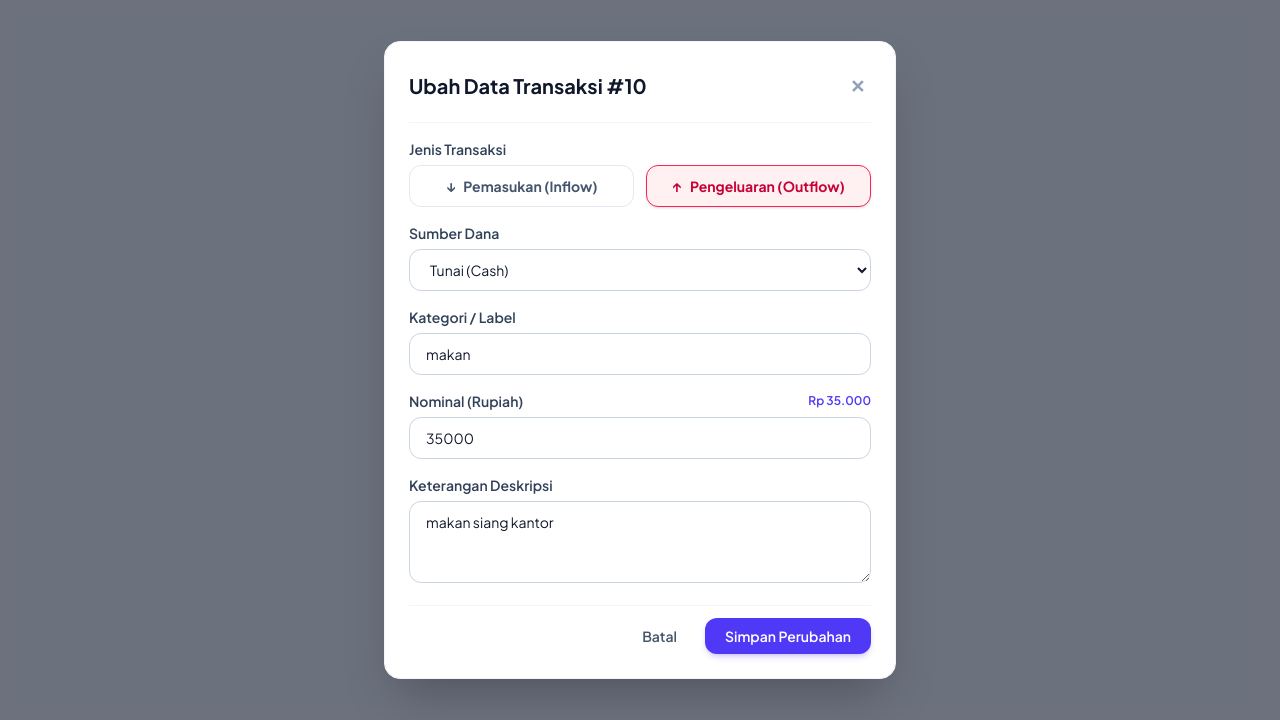
Test: ChangeModal › validates empty inputs on submit
The width and height of the screenshot is (1280, 720).
Step 1. Clear the field with id "edit-label-input" → (640, 354), box [409, 333, 871, 375]
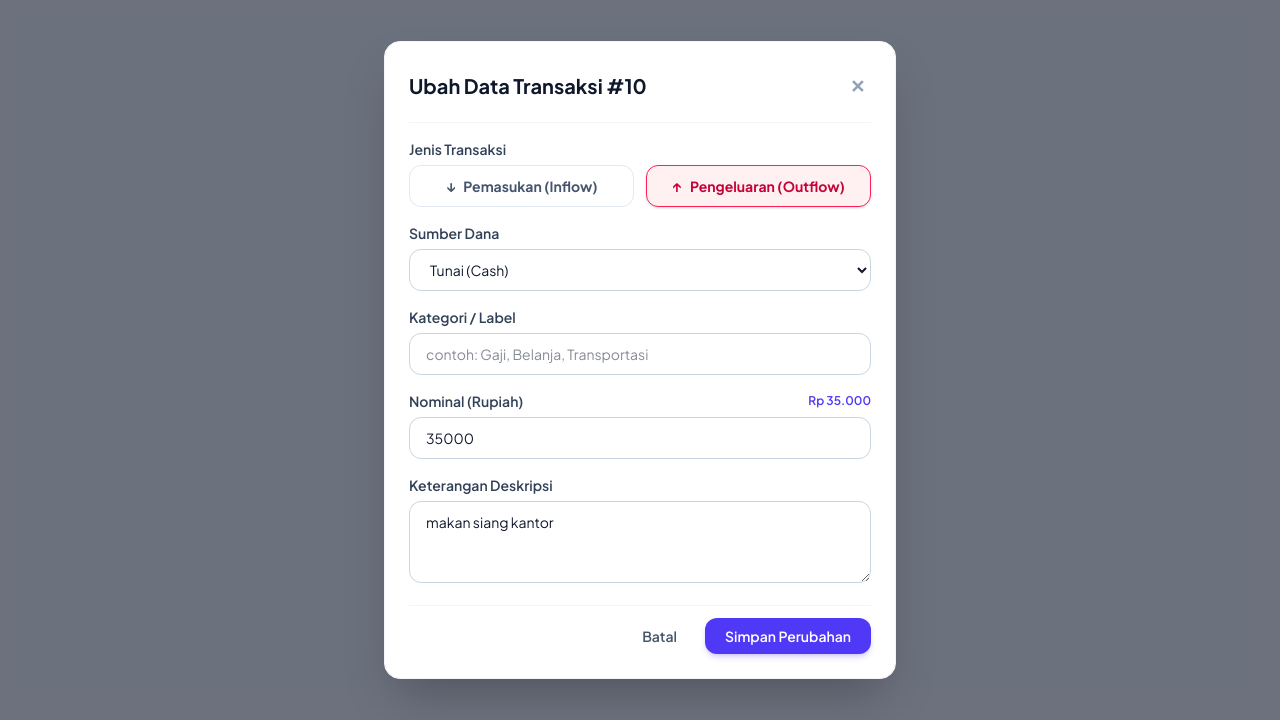
Step 2. Replace the text in the number field with id "edit-nominal-input" with "0" → (640, 438), box [409, 417, 871, 459]
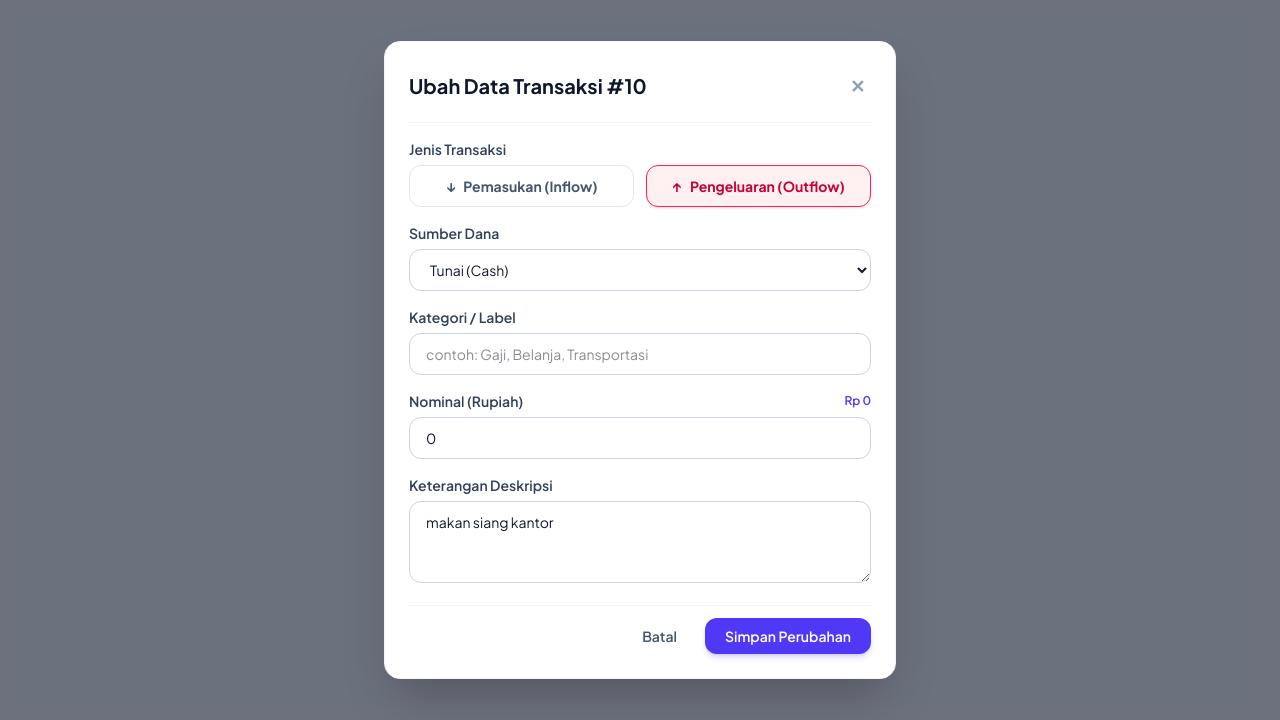
Step 3. Clear the text box with id "edit-description-input" → (640, 542), box [409, 501, 871, 583]
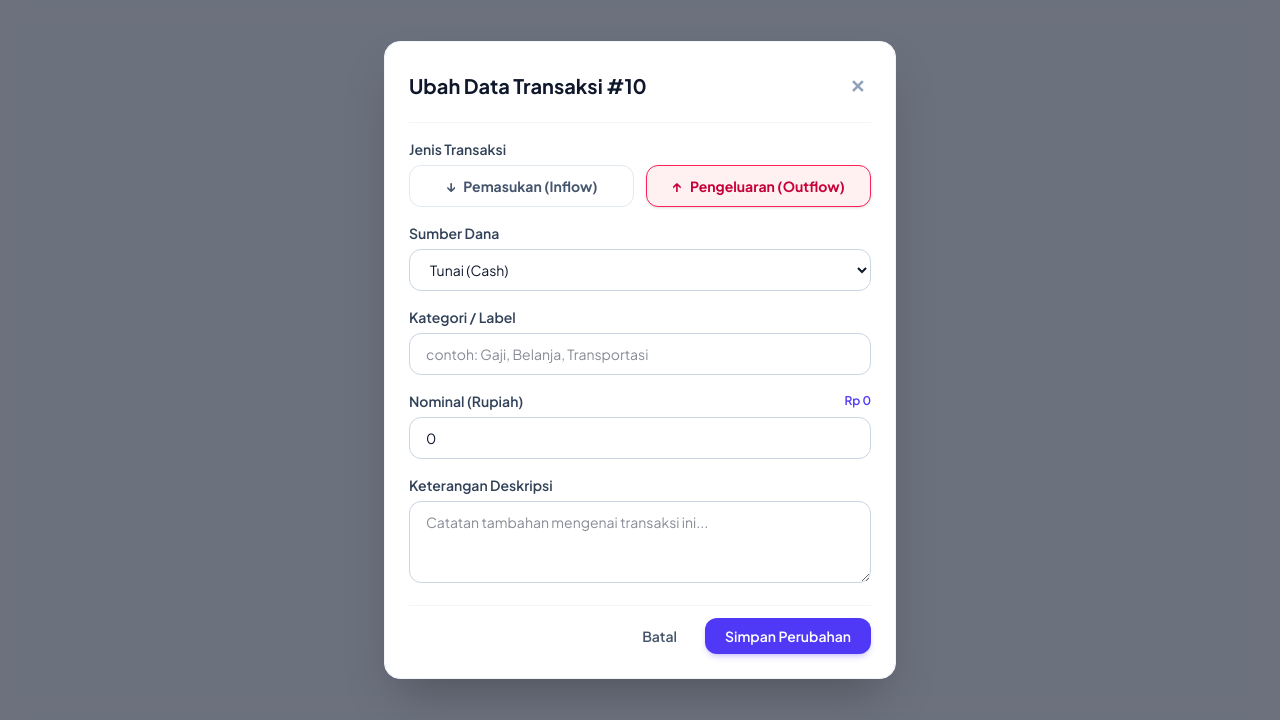
Step 4. Submit the form, box [409, 139, 871, 654]
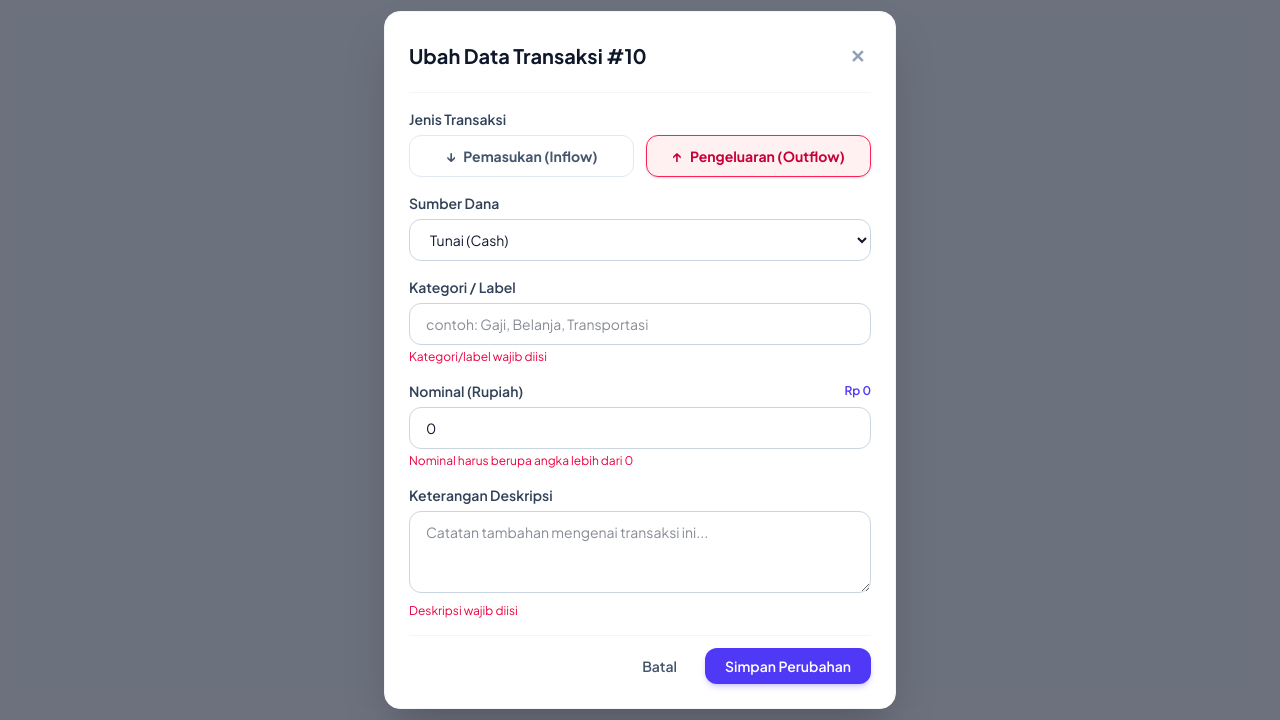
Expected: the text "Kategori/label wajib diisi" is shown, [409, 349, 547, 364]
Expected: the text "Nominal harus berupa angka lebih dari 0" is shown, [409, 453, 633, 468]
Expected: the text "Deskripsi wajib diisi" is shown, [409, 603, 518, 618]
